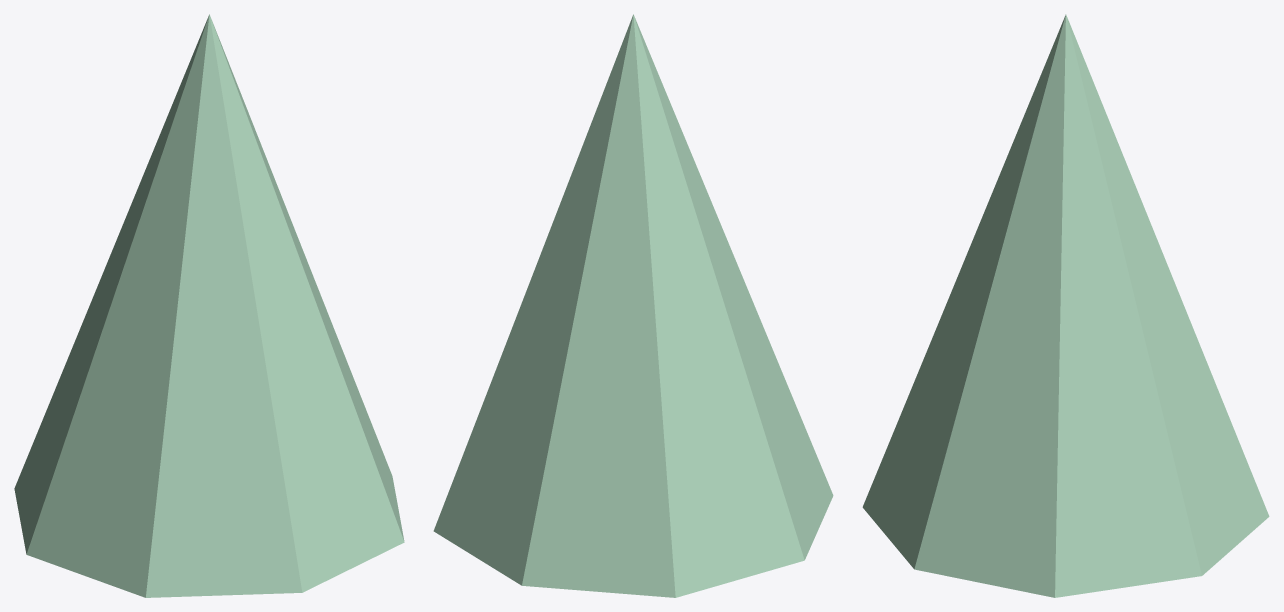
Rendered from nature_tree-basic_v01.gltf.
3 views of the same model, side by side, from view 1: azimuth 30°, elevation 25°; view 2: azimuth 150°, elevation 25°; view 3: azimuth 270°, elevation 25° (orthographic).
Parts seen in each view (by area): view 1: leaves; view 2: leaves; view 3: leaves.
Boxes of the visible parts, left/top/right/bottom form: leaves: left=14, top=14, right=404, bottom=597; leaves: left=433, top=14, right=833, bottom=597; leaves: left=862, top=14, right=1269, bottom=597.
Size of what is drawn, in the model's own units: 4.99 by 7.74 by 4.99.
